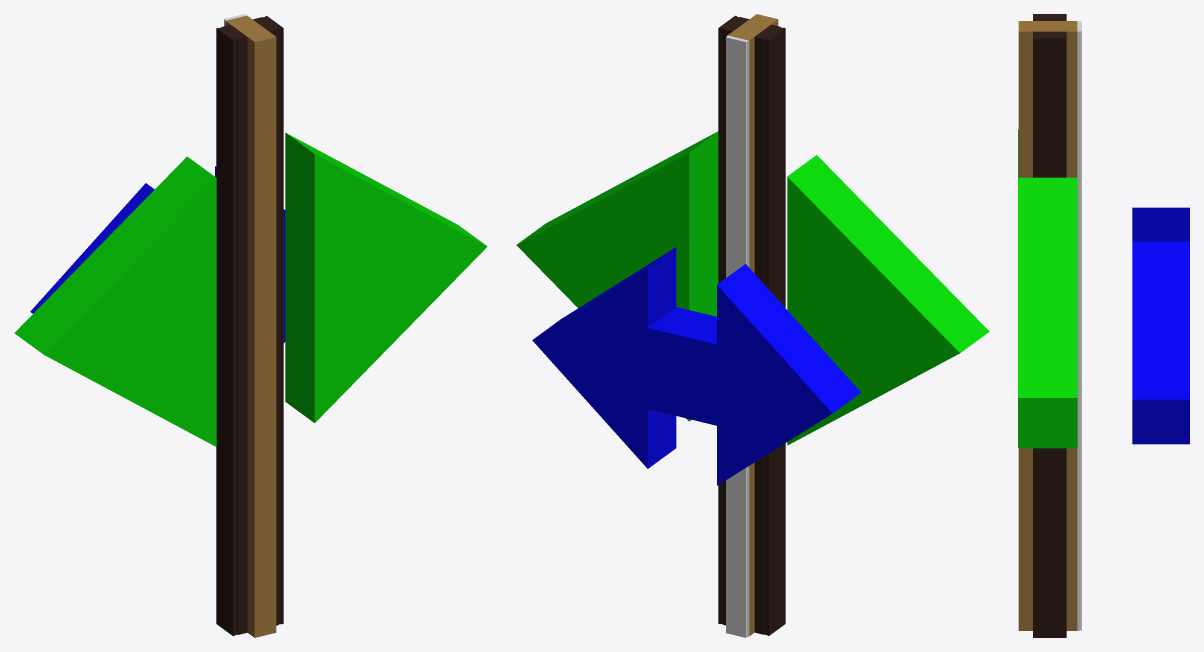
Rendered from stud15.FBX.
3 views of the same model, side by side, from view 1: azimuth 30°, elevation 25°; view 2: azimuth 150°, elevation 25°; view 3: azimuth 270°, elevation 25° (orthographic).
Visible parts, largest first — view 1: affordance_connect_left, affordance_connect_right, FastTrack-v (×2), 2x4stud, affordance_trans_horiz; view 2: affordance_trans_horiz, affordance_connect_right, affordance_connect_left, FastTrack-v (×2), ScreenTight-15-v, 2x4stud; view 3: affordance_connect_left, affordance_trans_horiz, FastTrack-v, 2x4stud, ScreenTight-15-v.
Part boxes in pixels (box(x1,y1,x2,y2)): affordance_connect_left: box(285, 132, 487, 422); affordance_connect_right: box(14, 156, 216, 446); FastTrack-v (×2): box(216, 16, 283, 636); 2x4stud: box(225, 15, 276, 637); affordance_trans_horiz: box(30, 166, 285, 342); affordance_trans_horiz: box(532, 247, 860, 485); affordance_connect_right: box(787, 155, 989, 445); affordance_connect_left: box(516, 131, 718, 421); FastTrack-v (×2): box(718, 15, 785, 635); ScreenTight-15-v: box(726, 35, 749, 637); 2x4stud: box(728, 14, 778, 635); affordance_connect_left: box(1018, 177, 1077, 448); affordance_trans_horiz: box(1132, 207, 1189, 444); FastTrack-v: box(1033, 31, 1066, 637); 2x4stud: box(1018, 21, 1077, 630); ScreenTight-15-v: box(1077, 21, 1081, 630).
Size of the model in its own units: 0.7797 by 1 by 0.2597.
